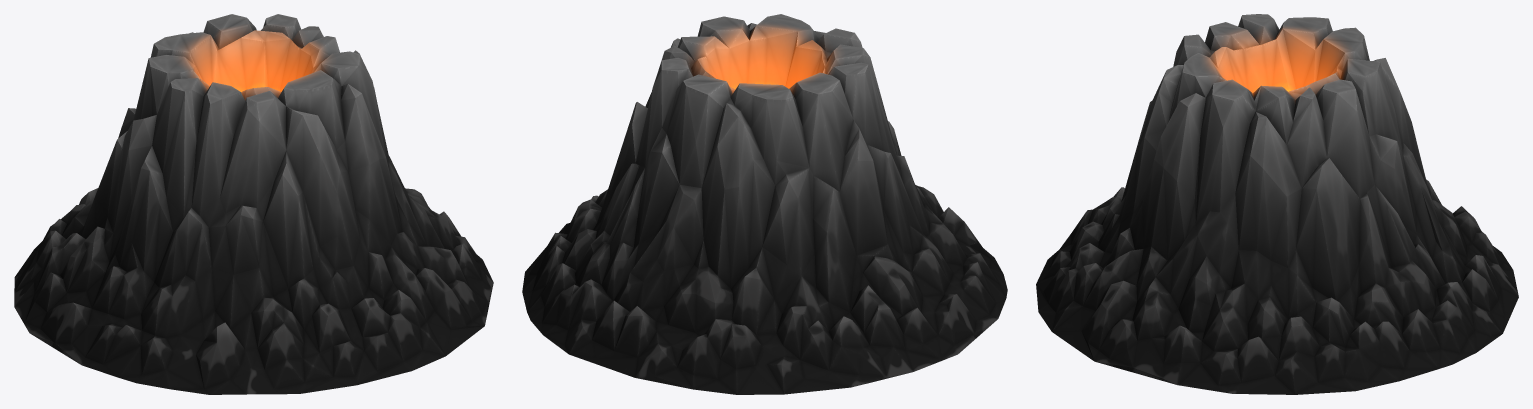
The model's file is Low Poly Volcano.fbx.
3 renders of one model, left to right at view 1: azimuth 30°, elevation 25°; view 2: azimuth 150°, elevation 25°; view 3: azimuth 270°, elevation 25°, orthographic.
Visible parts, largest first — view 1: Volcano; view 2: Volcano; view 3: Volcano.
Boxes of the visible parts, x1=… form: Volcano: x1=14, y1=14, x2=493, y2=394; Volcano: x1=522, y1=14, x2=1007, y2=394; Volcano: x1=1036, y1=14, x2=1518, y2=394.
Bounding box in the file's own units: 892 × 481 × 891.
Materials: 1 (1 with a texture image).
